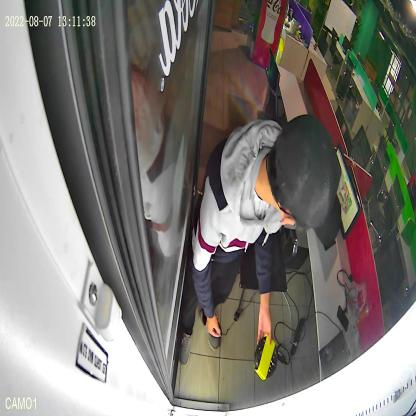yellow: (254, 333, 278, 381)
